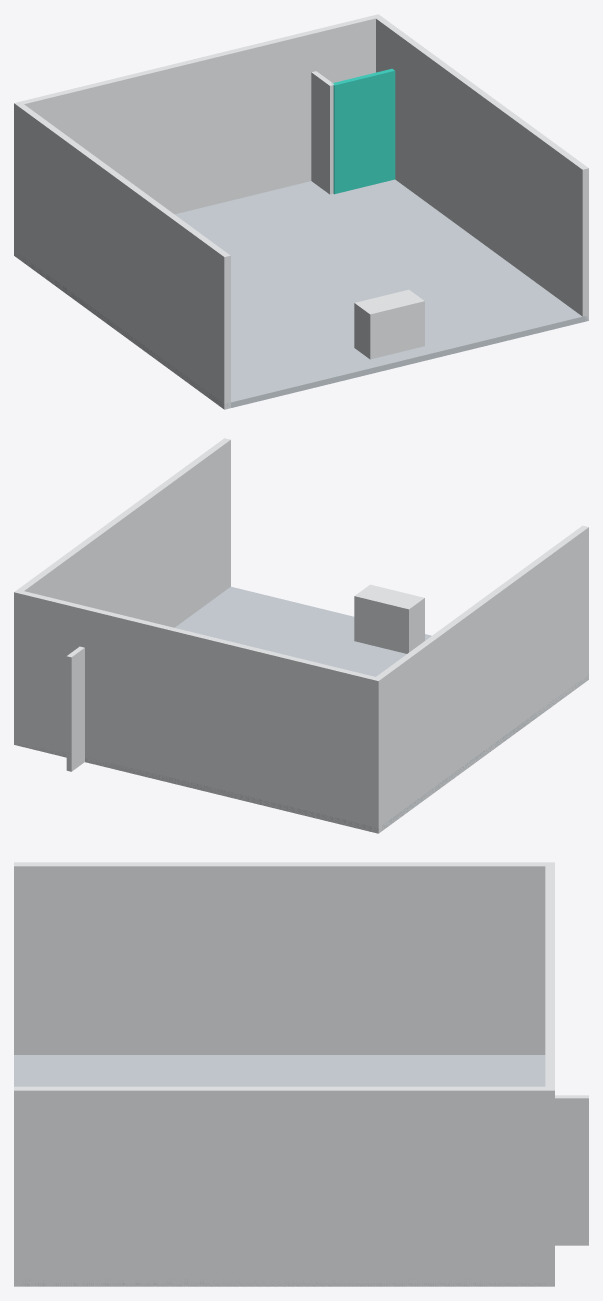
3 views of the same model, one above another, from view 1: azimuth 30°, elevation 25°; view 2: azimuth 150°, elevation 25°; view 3: azimuth 270°, elevation 25° (orthographic). The views are drawn at different scales.
Visible parts, largest first — view 1: Exhibition Booth Concept; view 2: Exhibition Booth Concept; view 3: Exhibition Booth Concept.
Part boxes in pixels (<box>): Exhibition Booth Concept: <box>14,14,588,409</box>; Exhibition Booth Concept: <box>14,438,588,833</box>; Exhibition Booth Concept: <box>14,862,588,1286</box>.
Bounding box in the file's own units: 8 × 3.2 × 8.51.
